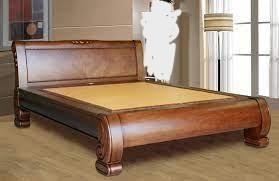Bed-Mattress: (6, 26, 273, 172)
